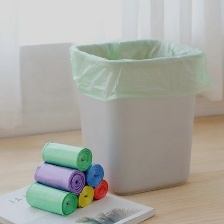plastic_bag: (20, 183, 79, 217), (31, 159, 85, 196), (40, 140, 95, 169), (80, 160, 107, 187), (76, 183, 95, 209), (89, 179, 112, 198)
